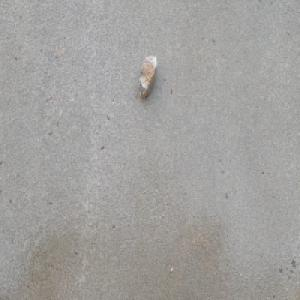Rock: (137, 54, 157, 100)
